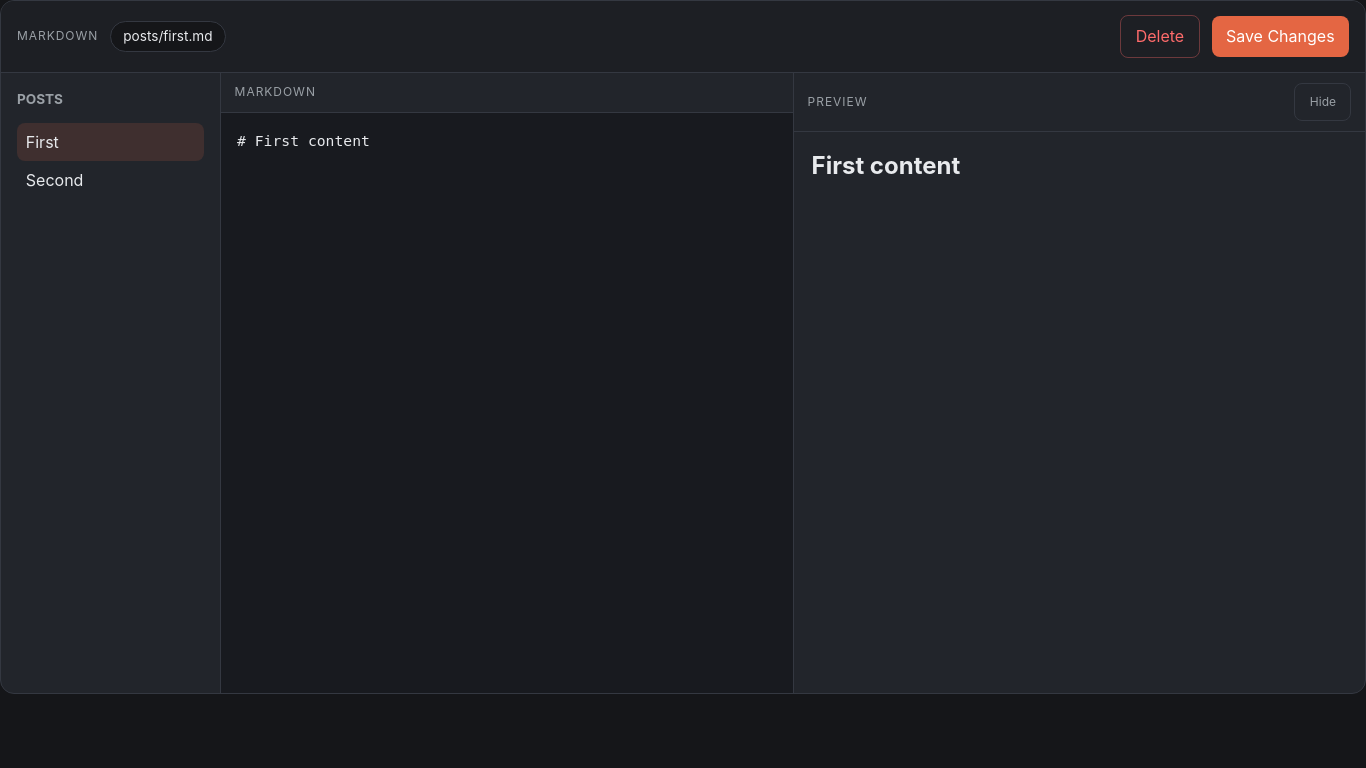
Test: MarkdownEditor › updates preview when switching posts
The image size is (1366, 768).
Check: the text box with test id "markdown-input" is shown, box [221,113,793,693]
Click the button with test id "post-posts/second.md": (110, 180) [17,161,204,200]
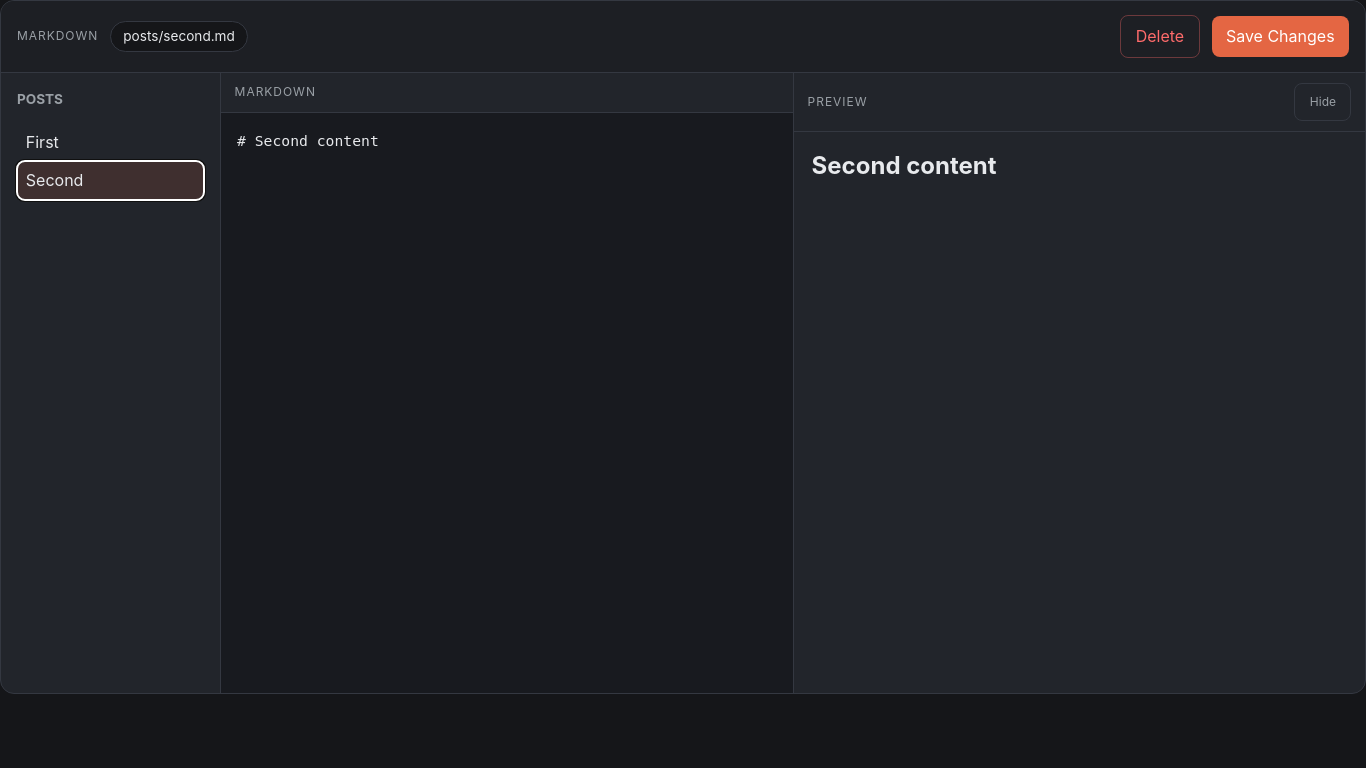
Check: the text box with test id "markdown-input" holds "# Second content", box [221,113,793,693]
